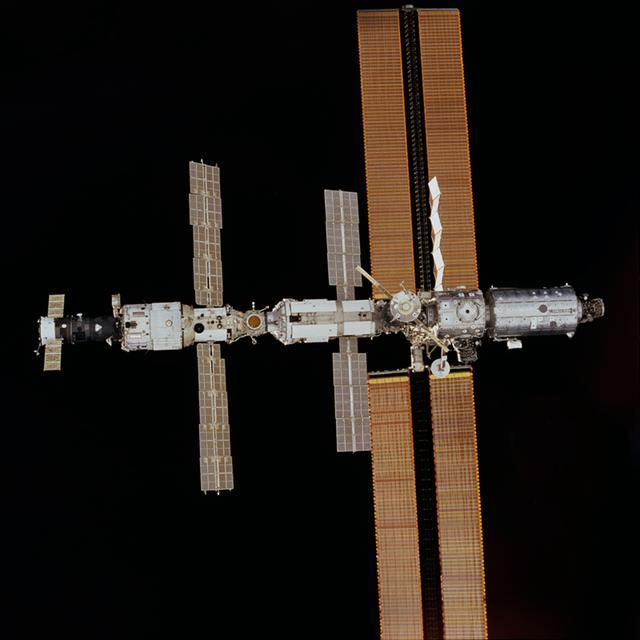medium_debris: (30, 8, 609, 630)
